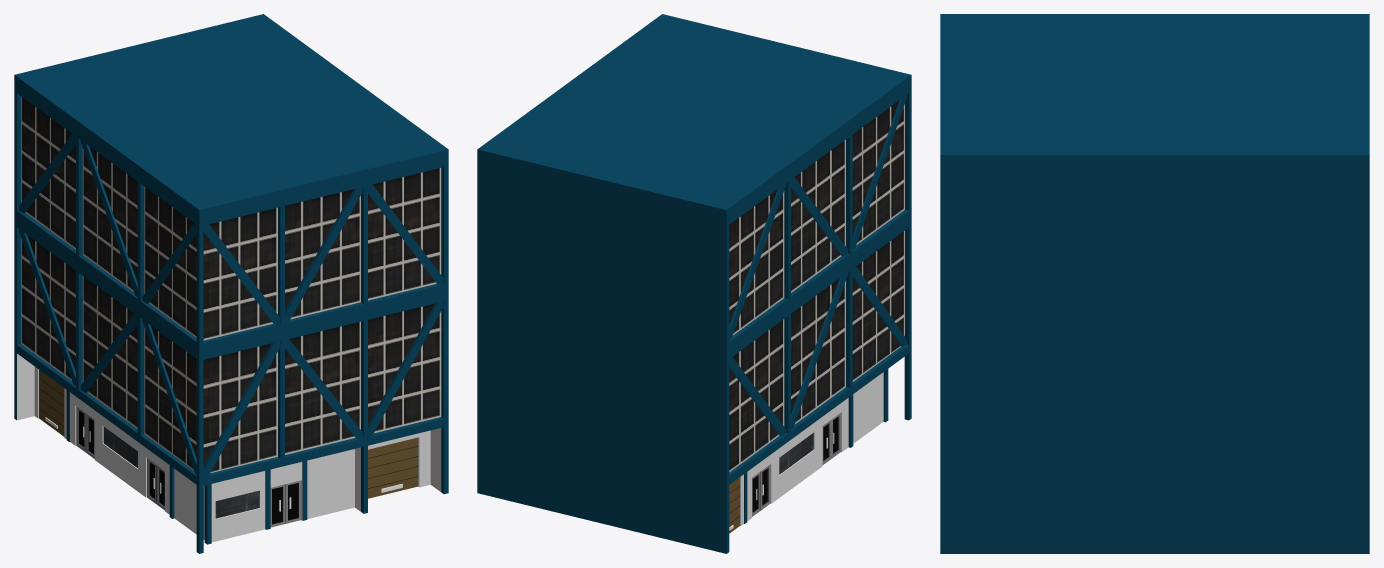
3 views of the same model, side by side, from view 1: azimuth 30°, elevation 25°; view 2: azimuth 150°, elevation 25°; view 3: azimuth 270°, elevation 25° (orthographic). The views are drawn at different scales.
Parts seen in each view (by area): view 1: EB-023; view 2: EB-023; view 3: EB-023.
Part boxes in pixels (bbox=[...]): EB-023: bbox=[14, 14, 448, 553]; EB-023: bbox=[477, 14, 911, 553]; EB-023: bbox=[940, 14, 1369, 553].
Size of what is drawn, in the model's own units: 15.55 by 20.49 by 19.98.
